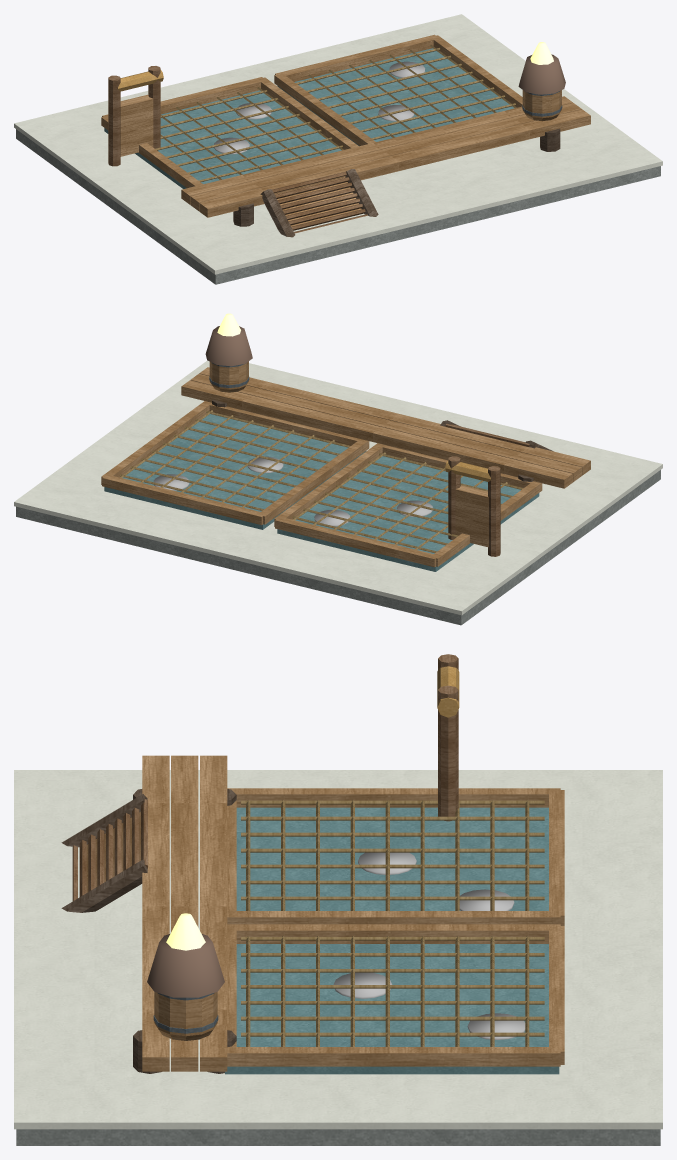
The model's file is BLD_FISHERY_v2.glb.
The picture shows the model from 3 angles, top to bottom: view 1: azimuth 30°, elevation 25°; view 2: azimuth 150°, elevation 25°; view 3: azimuth 270°, elevation 25°; orthographic projection. The views are drawn at different scales.
Visible parts, largest first — view 1: BLD_FISHERY, fishery_shadow, fishery_iron_rusted; view 2: BLD_FISHERY, fishery_shadow, fishery_iron_rusted; view 3: BLD_FISHERY, fishery_shadow, fishery_iron_rusted, fishery_window.
Part boxes in pixels (box(x1,y1,x2,y2)): BLD_FISHERY: box(14, 14, 662, 284); fishery_shadow: box(213, 61, 425, 154); fishery_iron_rusted: box(518, 54, 565, 94); BLD_FISHERY: box(14, 360, 662, 625); fishery_shadow: box(153, 456, 432, 526); fishery_iron_rusted: box(205, 326, 252, 366); BLD_FISHERY: box(14, 654, 662, 1145); fishery_shadow: box(333, 848, 525, 1039); fishery_iron_rusted: box(147, 934, 224, 997); fishery_window: box(166, 913, 205, 950).
Size of the model in its own units: 6.84 by 1.62 by 5.32.
Materials: 12 (9 with a texture image).
